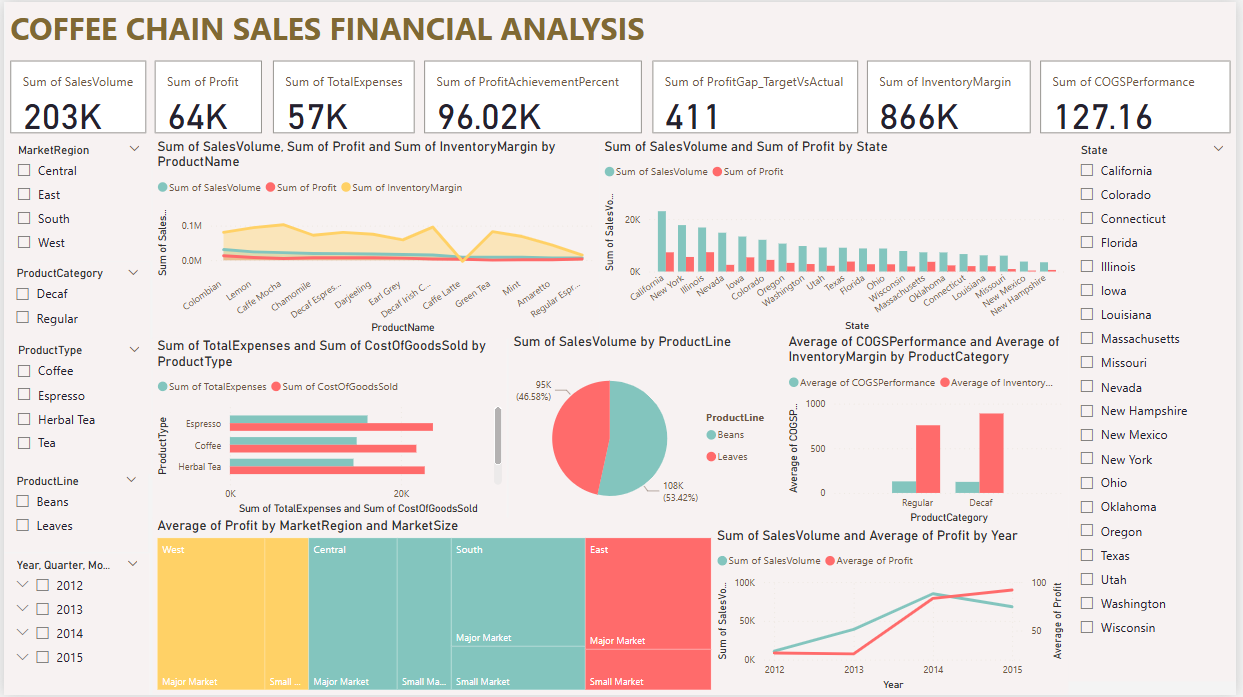

Layout of this report page (visuals, bound fields, positions):
{"tool":"powerbi","page":{"name":"Page 1","canvas":[1280,720],"ordinal":0},"visuals":[{"type":"cardVisual","fields":{"Data":["Sum(Coffee_Chain_Sales.SalesVolume)"]},"box":[2,56,152,86],"z":0},{"type":"cardVisual","fields":{"Data":["Sum(Coffee_Chain_Sales.Profit)"]},"box":[152,56,122,86],"z":1000},{"type":"cardVisual","fields":{"Data":["Sum(Coffee_Chain_Sales.TotalExpenses)"]},"box":[274,56,158,86],"z":2000},{"type":"cardVisual","fields":{"Data":["Sum(Coffee_Chain_Sales.ProfitGap_TargetVsActual)"]},"box":[668,56,224,86],"z":3000},{"type":"cardVisual","fields":{"Data":["Sum(Coffee_Chain_Sales.ProfitAchievementPercent)"]},"box":[432,56,236,86],"z":4000},{"type":"slicer","fields":{"Values":["Coffee_Chain_Sales.State"]},"box":[1106,142,174,564],"z":5000},{"type":"slicer","fields":{"Values":["Coffee_Chain_Sales.ProductLine"]},"box":[0,486,150,86],"z":6000},{"type":"slicer","fields":{"Values":["Coffee_Chain_Sales.ProductType"]},"box":[2,350,152,140],"z":7000},{"type":"slicer","fields":{"Values":["Coffee_Chain_Sales.Date.Variation.Date Hierarchy.Year","Coffee_Chain_Sales.Date.Variation.Date Hierarchy.Quarter","Coffee_Chain_Sales.Date.Variation.Date Hierarchy.Month","Coffee_Chain_Sales.Date.Variation.Date Hierarchy.Day"]},"box":[0,572.2,151.5,148.3],"z":8000},{"type":"slicer","fields":{"Values":["Coffee_Chain_Sales.MarketRegion"]},"box":[2,142,152,128],"z":9000},{"type":"slicer","fields":{"Values":["Coffee_Chain_Sales.ProductCategory"]},"box":[0,270,152,80],"z":10000},{"type":"lineChart","fields":{"Category":["Coffee_Chain_Sales.Date.Variation.Date Hierarchy.Year","Coffee_Chain_Sales.Date.Variation.Date Hierarchy.Quarter","Coffee_Chain_Sales.Date.Variation.Date Hierarchy.Month","Coffee_Chain_Sales.Date.Variation.Date Hierarchy.Day"],"Y":["Sum(Coffee_Chain_Sales.SalesVolume)","Avg(Coffee_Chain_Sales.Profit)"]},"box":[736,546,370,174],"z":11000},{"type":"clusteredColumnChart","fields":{"Category":["Coffee_Chain_Sales.State"],"Y":["Sum(Coffee_Chain_Sales.SalesVolume)","Sum(Coffee_Chain_Sales.Profit)"]},"box":[618,142,488,206],"z":12000},{"type":"areaChart","fields":{"Category":["Coffee_Chain_Sales.ProductName"],"Y":["Sum(Coffee_Chain_Sales.SalesVolume)","Sum(Coffee_Chain_Sales.Profit)","Sum(Coffee_Chain_Sales.InventoryMargin)"]},"box":[154,142,464,208],"z":13000},{"type":"treemap","fields":{"Group":["Coffee_Chain_Sales.MarketRegion"],"Values":["Avg(Coffee_Chain_Sales.Profit)"],"Details":["Coffee_Chain_Sales.MarketSizeCategory"]},"box":[154,536,586,184],"z":14000},{"type":"cardVisual","fields":{"Data":["Sum(Coffee_Chain_Sales.InventoryMargin)"]},"box":[892,56,180,86],"z":16000},{"type":"pieChart","fields":{"Category":["Coffee_Chain_Sales.ProductLine"],"Y":["Sum(Coffee_Chain_Sales.SalesVolume)"]},"box":[524,344,288,202],"z":17000},{"type":"clusteredBarChart","fields":{"Y":["Sum(Coffee_Chain_Sales.TotalExpenses)","Sum(Coffee_Chain_Sales.CostOfGoodsSold)"],"Category":["Coffee_Chain_Sales.ProductType"]},"box":[154,348,368,188],"z":18000},{"type":"cardVisual","fields":{"Data":["Avg(Coffee_Chain_Sales.COGSPerformancePercent)"]},"box":[1072,56,208,86],"z":19000},{"type":"clusteredColumnChart","fields":{"Y":["Avg(Coffee_Chain_Sales.COGSPerformancePercent)","Avg(Coffee_Chain_Sales.InventoryMargin)"],"Category":["Coffee_Chain_Sales.ProductCategory"]},"box":[810,344,296,202],"z":20000},{"type":"textbox","box":[2,0,1278,56],"z":22000}]}

Visuals, with their boxes in screenshot pixels (x1, y1, x2, y2), scaled from the page's 1280x720 canvas onto the 1243x697 screenshot:
cardVisual - Sum(Coffee_Chain_Sales.SalesVolume): (2, 54, 150, 137)
cardVisual - Sum(Coffee_Chain_Sales.Profit): (148, 54, 266, 137)
cardVisual - Sum(Coffee_Chain_Sales.TotalExpenses): (266, 54, 420, 137)
cardVisual - Sum(Coffee_Chain_Sales.ProfitGap_TargetVsActual): (649, 54, 866, 137)
cardVisual - Sum(Coffee_Chain_Sales.ProfitAchievementPercent): (420, 54, 649, 137)
slicer - Coffee_Chain_Sales.State: (1074, 137, 1242, 683)
slicer - Coffee_Chain_Sales.ProductLine: (0, 470, 146, 554)
slicer - Coffee_Chain_Sales.ProductType: (2, 339, 150, 474)
slicer - Coffee_Chain_Sales.Date.Variation.Date Hierarchy.Year x Coffee_Chain_Sales.Date.Variation.Date Hierarchy.Quarter: (0, 554, 147, 696)
slicer - Coffee_Chain_Sales.MarketRegion: (2, 137, 150, 261)
slicer - Coffee_Chain_Sales.ProductCategory: (0, 261, 148, 339)
lineChart - Coffee_Chain_Sales.Date.Variation.Date Hierarchy.Year x Coffee_Chain_Sales.Date.Variation.Date Hierarchy.Quarter: (715, 529, 1074, 696)
clusteredColumnChart - Coffee_Chain_Sales.State x Sum(Coffee_Chain_Sales.SalesVolume): (600, 137, 1074, 337)
areaChart - Coffee_Chain_Sales.ProductName x Sum(Coffee_Chain_Sales.SalesVolume): (150, 137, 600, 339)
treemap - Coffee_Chain_Sales.MarketRegion x Avg(Coffee_Chain_Sales.Profit): (150, 519, 719, 696)
cardVisual - Sum(Coffee_Chain_Sales.InventoryMargin): (866, 54, 1041, 137)
pieChart - Coffee_Chain_Sales.ProductLine x Sum(Coffee_Chain_Sales.SalesVolume): (509, 333, 789, 529)
clusteredBarChart - Sum(Coffee_Chain_Sales.TotalExpenses) x Sum(Coffee_Chain_Sales.CostOfGoodsSold): (150, 337, 507, 519)
cardVisual - Avg(Coffee_Chain_Sales.COGSPerformancePercent): (1041, 54, 1242, 137)
clusteredColumnChart - Avg(Coffee_Chain_Sales.COGSPerformancePercent) x Avg(Coffee_Chain_Sales.InventoryMargin): (787, 333, 1074, 529)
textbox: (2, 0, 1242, 54)
